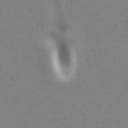abnormal: (44, 1, 76, 47)
